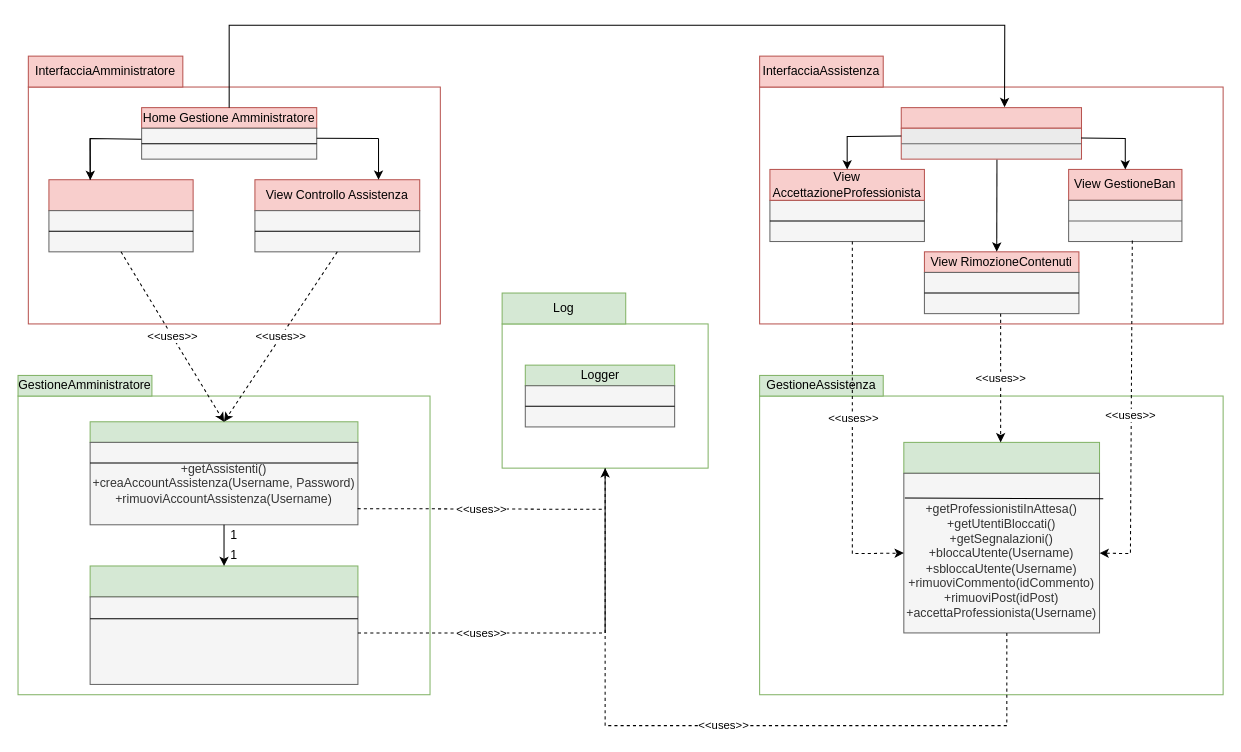
The diagram is 1241 pixels wide and 752 high, and some of its shapes have lost their labels. The centre of each missing label's shape, as x and y in pixels:
+AggiungiLog(VoceDiLog): the point at 599,406
+getVociDiLog(DateTime, DateTime) +getVociDiLog(Date) +getVociDiLog(): the point at 223,640
GestioneAmministratore Controller: the point at 223,431
GestioneAssistenza Controller: the point at 1001,457
Home GestioneAssistenza: the point at 991,117
Log Controller: the point at 223,581
View Visualizzazione Log: the point at 120,195
